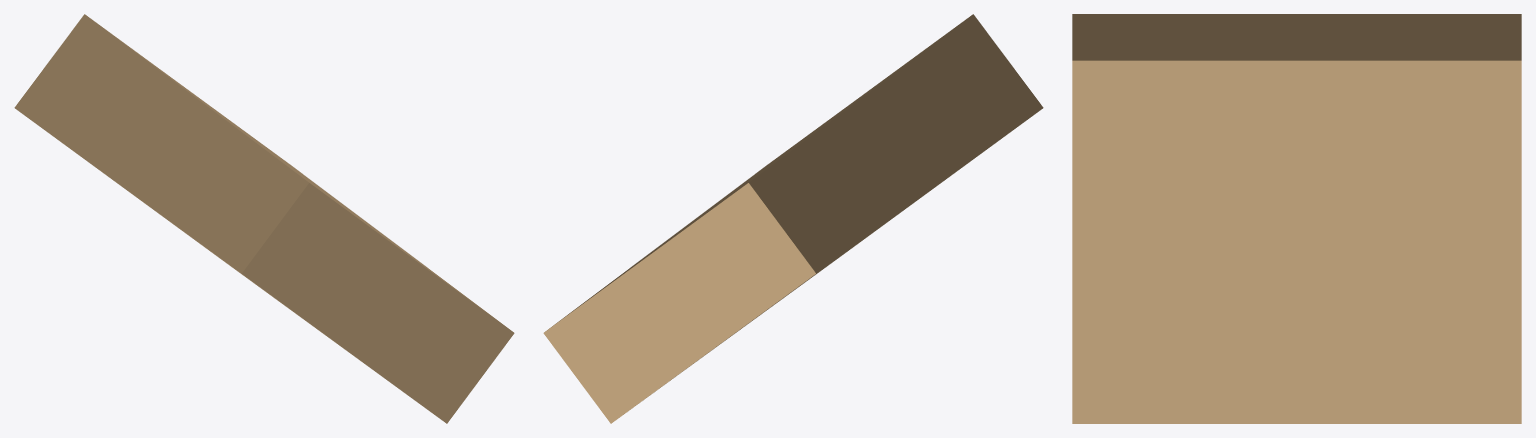
3 renders of one model, left to right at view 1: azimuth 30°, elevation 25°; view 2: azimuth 150°, elevation 25°; view 3: azimuth 270°, elevation 25°, orthographic. The views are drawn at different scales.
Parts seen in each view (by area): view 1: 0_1_2_0_0_2_1_1_3_0; view 2: 0_1_2_0_0_2_1_1_3_0; view 3: 0_1_2_0_0_2_1_1_3_0.
Part boxes in pixels (x1,y1,x2,y2): 0_1_2_0_0_2_1_1_3_0: [14, 14, 514, 423]; 0_1_2_0_0_2_1_1_3_0: [543, 14, 1043, 423]; 0_1_2_0_0_2_1_1_3_0: [1072, 14, 1521, 423].
Bounding box in the file's own units: 17.42 × 16.81 × 21.
